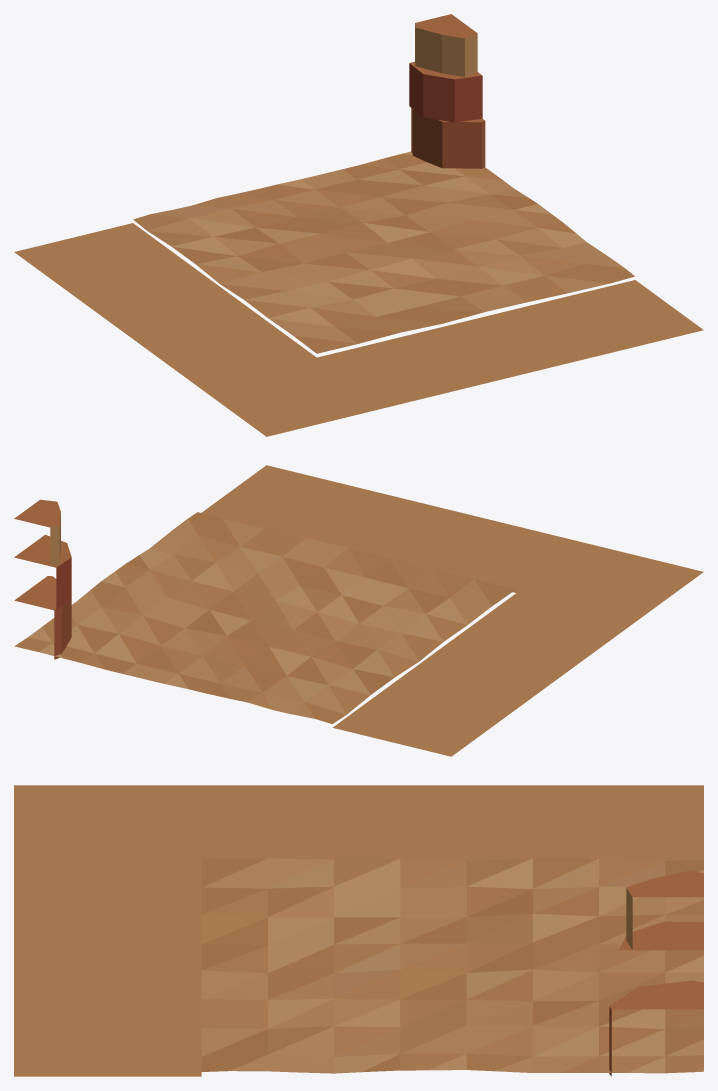
3 views of the same model, one above another, from view 1: azimuth 30°, elevation 25°; view 2: azimuth 150°, elevation 25°; view 3: azimuth 270°, elevation 25° (orthographic). The views are drawn at different scales.
Parts seen in each view (by area): view 1: baked; view 2: baked; view 3: baked.
Boxes of the visible parts, x1=… form: baked: x1=14, y1=14, x2=703, y2=436; baked: x1=14, y1=465, x2=703, y2=756; baked: x1=14, y1=785, x2=703, y2=1076.
Size of the model in its own units: 125 by 35.84 by 125.
